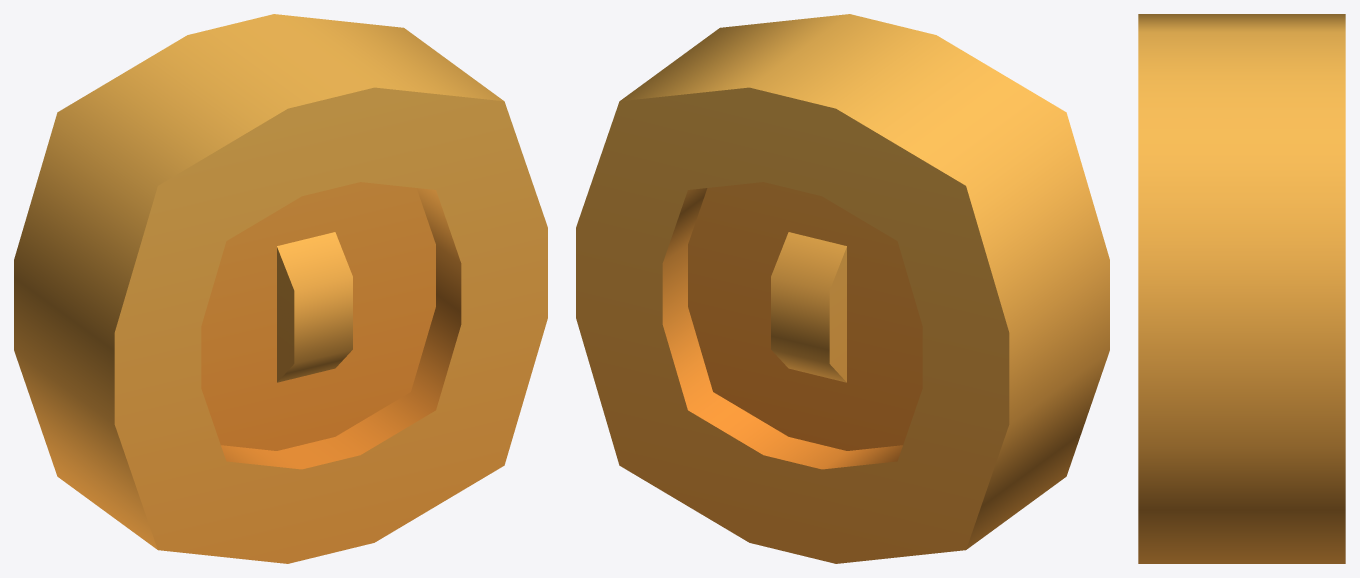
The model's file is coin.obj.
The picture shows the model from 3 angles, left to right: view 1: azimuth 30°, elevation 25°; view 2: azimuth 150°, elevation 25°; view 3: azimuth 270°, elevation 25°; orthographic projection. The views are drawn at different scales.
Parts seen in each view (by area): view 1: coin; view 2: coin; view 3: coin.
Part boxes in pixels (x1=…): coin: x1=14, y1=14, x2=547, y2=563; coin: x1=576, y1=14, x2=1109, y2=563; coin: x1=1138, y1=14, x2=1345, y2=563.
Bounding box in the file's own units: 0.415 × 0.4167 × 0.1667.
1 material, 1 textured.
